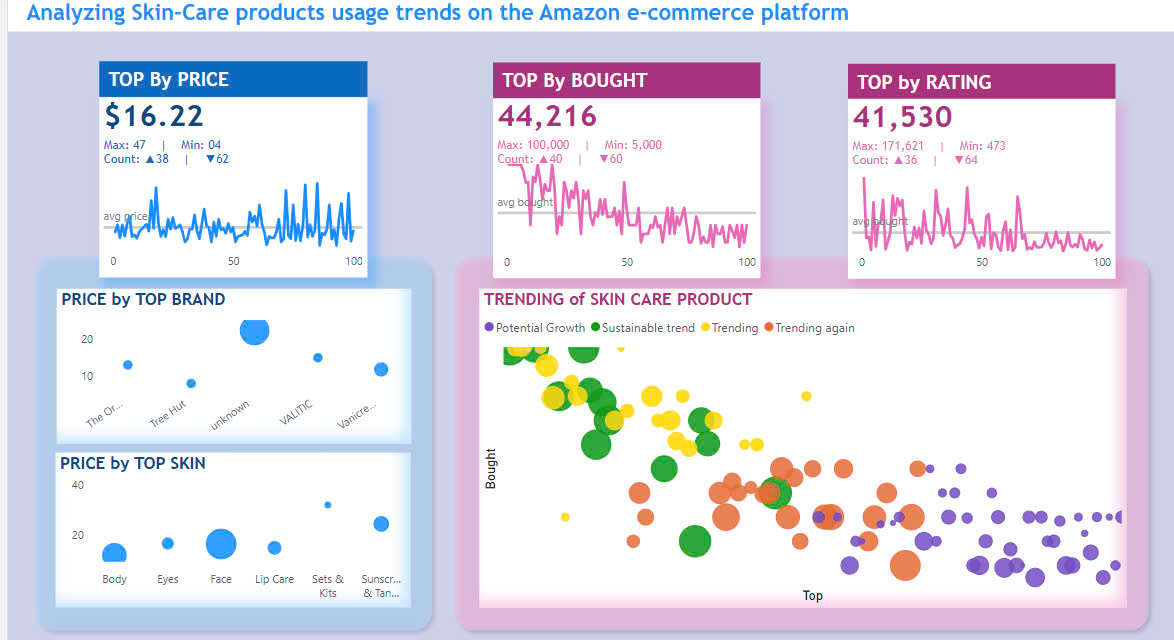

What the dashboard file says about the page in this screenshot:
{"tool":"powerbi","page":{"name":"Page 1","canvas":[1280,720],"ordinal":0},"visuals":[{"type":"lineChart","fields":{"Category":["public amazon_products.top"],"Y":["Sum(public amazon_products.bought_info)"]},"box":[532.6,113.2,293.7,198.2],"z":0,"group":"g1"},{"type":"lineChart","fields":{"Category":["public amazon_products.top"],"Y":["Sum(public amazon_products.rating_count)"]},"box":[922.1,114.2,293.7,197.2],"z":0,"group":"g2"},{"type":"shape","box":[20.9,279.1,453.5,427.9],"z":0},{"type":"textbox","box":[532.6,74.4,293.7,38.8],"z":1000,"group":"g1"},{"type":"textbox","box":[922.1,75.6,293.7,38.6],"z":1000,"group":"g2"},{"type":"lineChart","fields":{"Category":["public amazon_products.top"],"Y":["Sum(public amazon_products.price)"]},"box":[100,112.8,294.2,197.7],"z":1000},{"type":"shape","box":[481.4,279.1,779.1,427.9],"z":2000},{"type":"textbox","box":[100,73.3,294.2,39.5],"z":3000},{"type":"group","id":"g1","title":"Group 2","box":[532.6,74.4,293,236],"z":4000},{"type":"group","id":"g2","title":"Group 3","box":[922.1,75.6,293,234.9],"z":5000},{"type":"scatterChart","title":"TRENDING of SKIN CARE PRODUCT","fields":{"X":["public amazon_products.top"],"Y":["Sum(public amazon_products.bought_info)"],"Size":["Sum(public amazon_products.rating_count)"],"Series":["public amazon_products.cluster_label"]},"box":[517.4,322.1,710.5,350],"z":6000},{"type":"scatterChart","title":"PRICE by TOP BRAND","fields":{"X":["public amazon_products.brand"],"Y":["public amazon_products._priceAvg"],"Size":["CountNonNull(public amazon_products.id)"]},"box":[53.5,322.5,389.7,170.2],"z":7000},{"type":"scatterChart","title":"PRICE by TOP SKIN","fields":{"Y":["public amazon_products._priceAvg"],"Size":["CountNonNull(public amazon_products.id)"],"X":["public amazon_products.skin_type"]},"box":[52.1,502.2,389.7,170.2],"z":8000},{"type":"textbox","box":[0,0,1280.3,39.8],"z":8001}]}

Visuals, with their boxes on the page's 1280x720 design canvas (x1, y1, x2, y2). These are canvas units, not pixel positions in the 1174x640 screenshot, which may show the page scaled, cropped or inside an application window:
lineChart - public amazon_products.top x Sum(public amazon_products.bought_info): (533,113,826,311)
lineChart - public amazon_products.top x Sum(public amazon_products.rating_count): (922,114,1216,311)
shape: (21,279,474,707)
textbox: (533,74,826,113)
textbox: (922,76,1216,114)
lineChart - public amazon_products.top x Sum(public amazon_products.price): (100,113,394,310)
shape: (481,279,1260,707)
textbox: (100,73,394,113)
"Group 2" group: (533,74,826,310)
"Group 3" group: (922,76,1215,310)
"TRENDING of SKIN CARE PRODUCT" scatterChart: (517,322,1228,672)
"PRICE by TOP BRAND" scatterChart: (54,322,443,493)
"PRICE by TOP SKIN" scatterChart: (52,502,442,672)
textbox: (0,0,1280,40)
